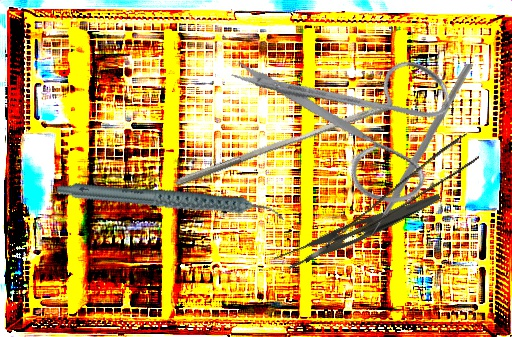Chopper: (348, 63, 479, 238)
Dressing Forceps: (272, 175, 442, 281)
Handpiece: (54, 138, 287, 268)
Iris Scissors: (225, 3, 475, 240)
Pusher: (174, 93, 394, 196)
Tissue Forceps: (288, 133, 485, 263)
